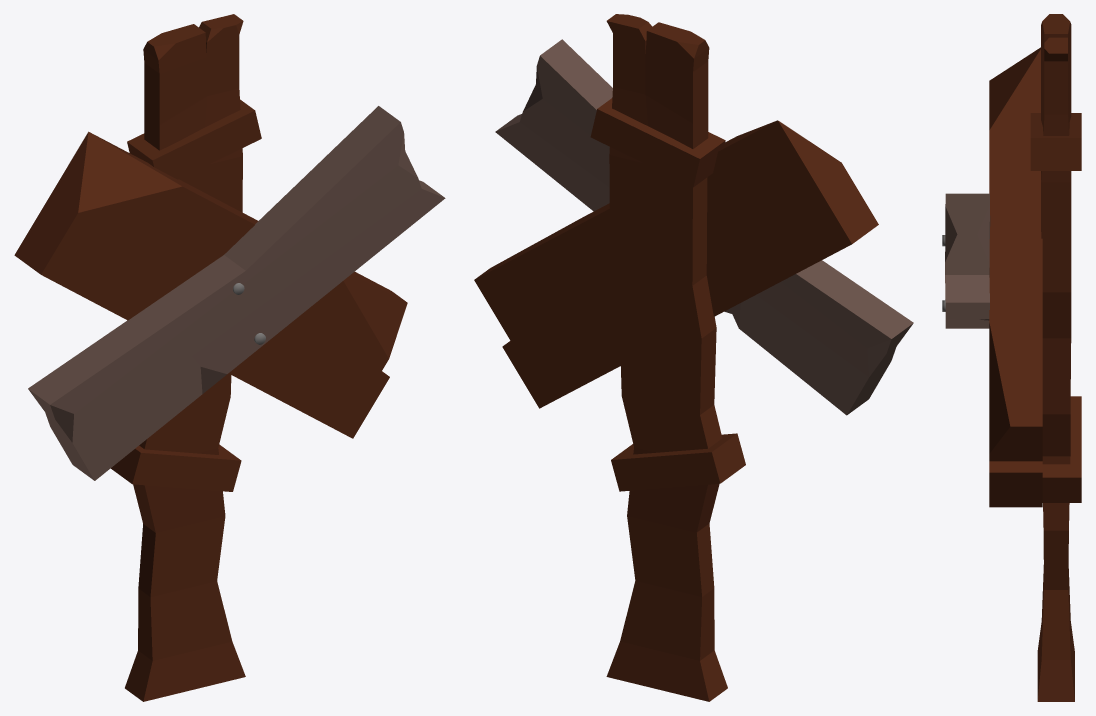
Rendered from signpost.glb.
3 renders of one model, left to right at view 1: azimuth 30°, elevation 25°; view 2: azimuth 150°, elevation 25°; view 3: azimuth 270°, elevation 25°, orthographic.
Visible parts, largest first — view 1: Cube, Cube.001, Cube.002, Cube.004, Cube.003; view 2: Cube.002, Cube.001, Cube, Cube.004, Cube.003; view 3: Cube.001, Cube.002, Cube, Cube.004, Cube.003.
Part boxes in pixels (x1,y1,x2,y2): Cube: (28,106,445,480); Cube.001: (14,131,407,438); Cube.002: (125,14,245,701); Cube.004: (127,99,261,179); Cube.003: (111,444,241,491); Cube.002: (606,14,727,701); Cube.001: (474,120,878,408); Cube: (495,39,913,415); Cube.004: (590,98,725,187); Cube.003: (611,433,745,491); Cube.001: (989,47,1042,507); Cube.002: (1037,14,1074,701); Cube: (945,193,990,328); Cube.004: (1030,113,1081,170); Cube.003: (1042,396,1081,502).
Size of the model in its own units: 1.34 by 2.1 by 0.4095.
